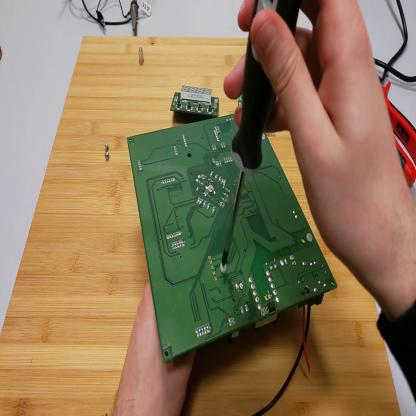hand: (226, 1, 408, 290), (114, 276, 196, 414)
low voltage board: (129, 114, 340, 415)
oscilloscope probe tip: (132, 2, 139, 35)
pliers: (383, 80, 416, 190)
screwdriver-: (224, 2, 301, 268)
working area: (2, 24, 402, 415)
